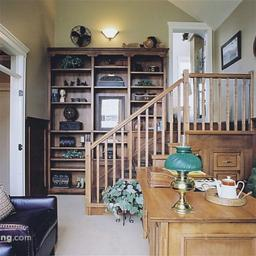Escaleras: (88, 72, 252, 211)
